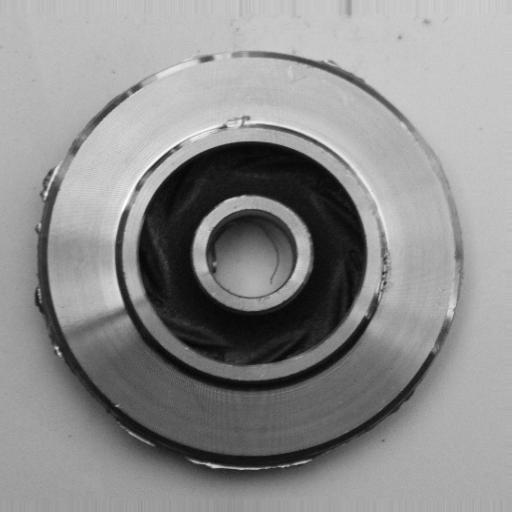casting_with_burr: (32, 49, 468, 478)
crack: (367, 211, 400, 324), (196, 109, 268, 142)
